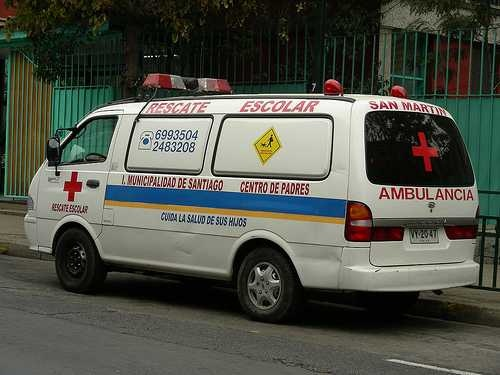Ambulance: (39, 66, 485, 349)
